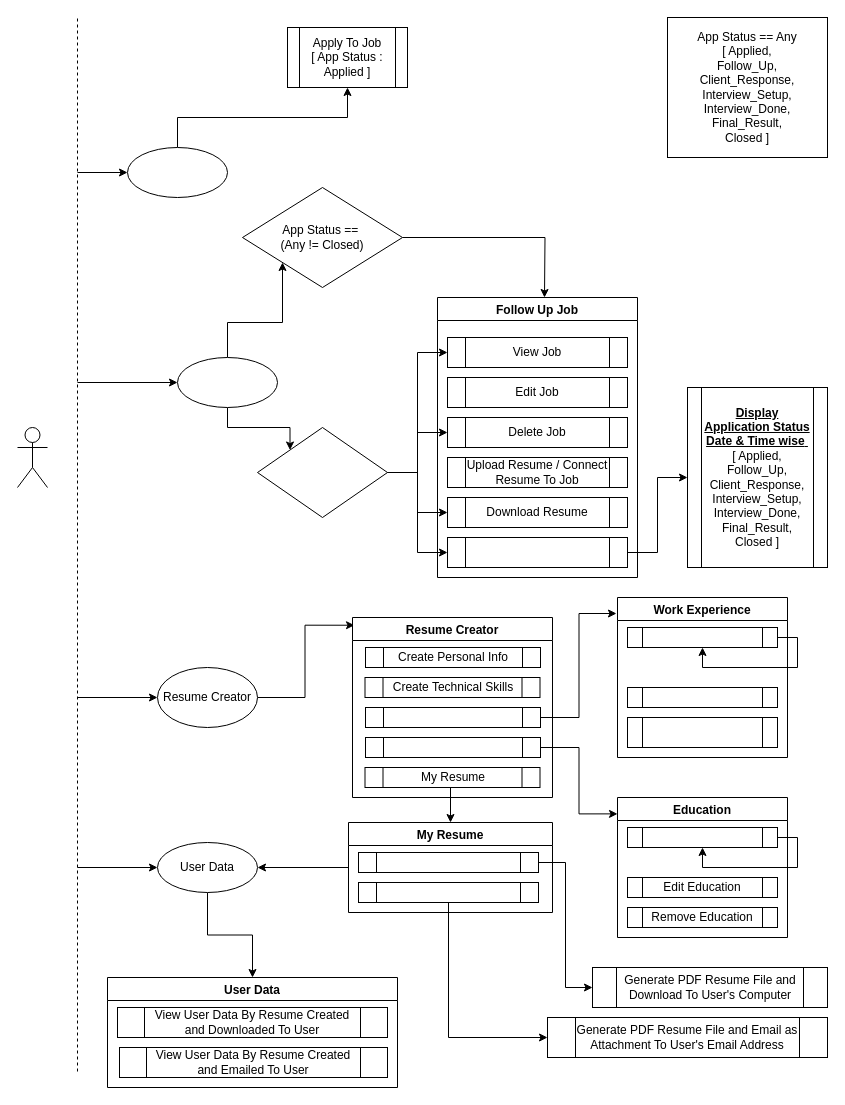
Some shapes in this 845 by 1105 pixel diagram are drawn without their labels. The shapes that lost their labels are listed below. From the top down, each one's centre as x and y in pixels, then its label:
At (177,172): "Apply Job".
At (227,382): "Follow Up".
At (32,457): "Actor".
At (322,472): "App Status == Closed".
At (537,552): "Track Application Status".
At (702,637): "Add Work Experience".
At (452,717): "Create Work Experience".
At (702,697): "Edit Work Experience".
At (452,747): "Create Education".
At (702,732): "Remove Work Experience".
At (702,837): "Add Education".
At (448,862): "View My Resume".
At (448,892): "Email My Resume".
